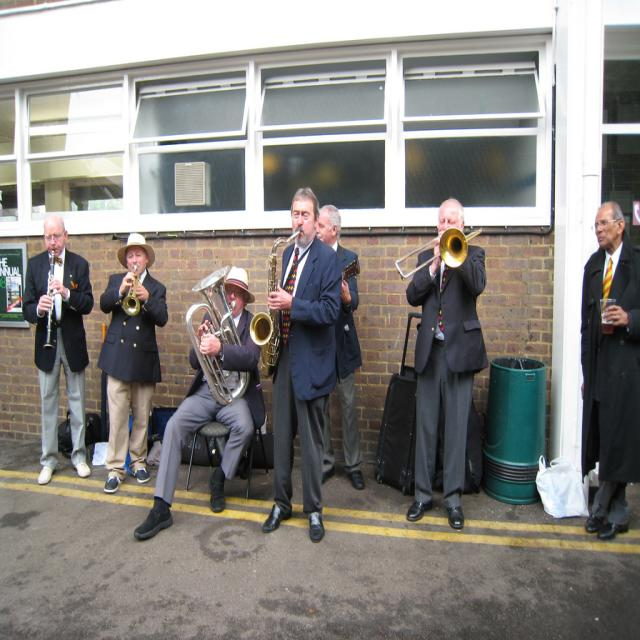clarinet: (44, 248, 59, 350)
guitar: (340, 257, 360, 291)
